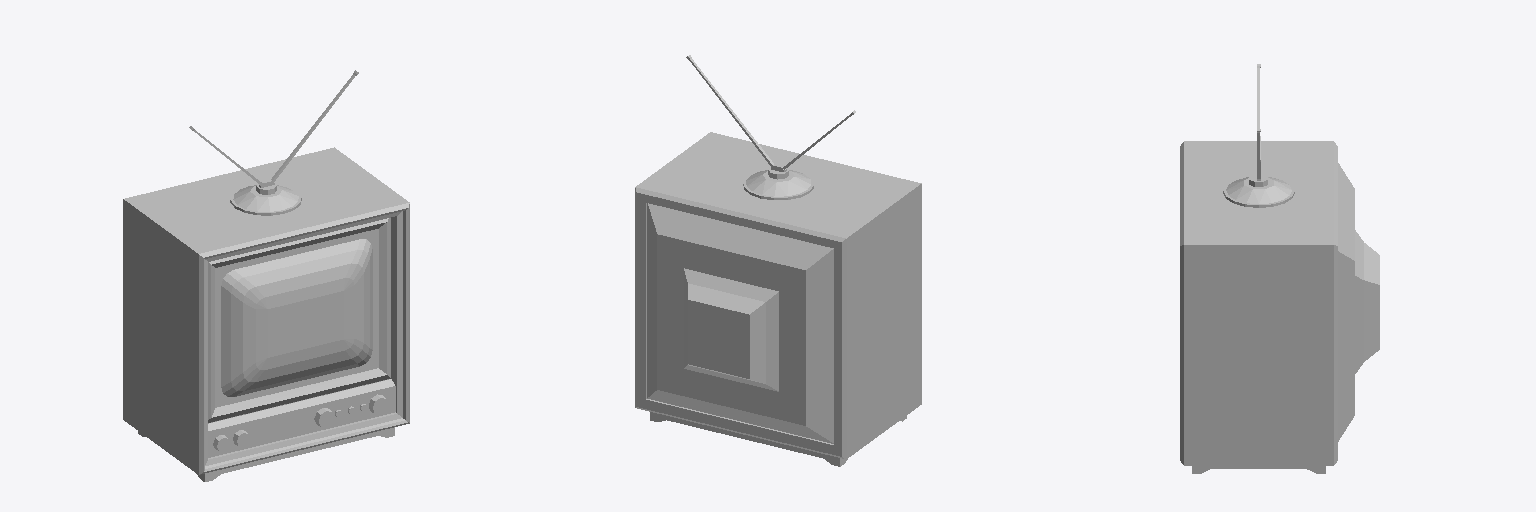
The picture shows the model from 3 angles: view 1: azimuth 30°, elevation 25°; view 2: azimuth 150°, elevation 25°; view 3: azimuth 270°, elevation 25°; orthographic projection.
Visible parts, largest first — view 1: tv_mp_1_2; view 2: tv_mp_1_2; view 3: tv_mp_1_2.
Boxes of the visible parts, box(x1,y1,x2,y2) form: tv_mp_1_2: box(123, 70, 409, 481); tv_mp_1_2: box(635, 55, 921, 466); tv_mp_1_2: box(1180, 64, 1379, 473).
Bounding box in the file's own units: 0.51 × 0.7893 × 0.4183.